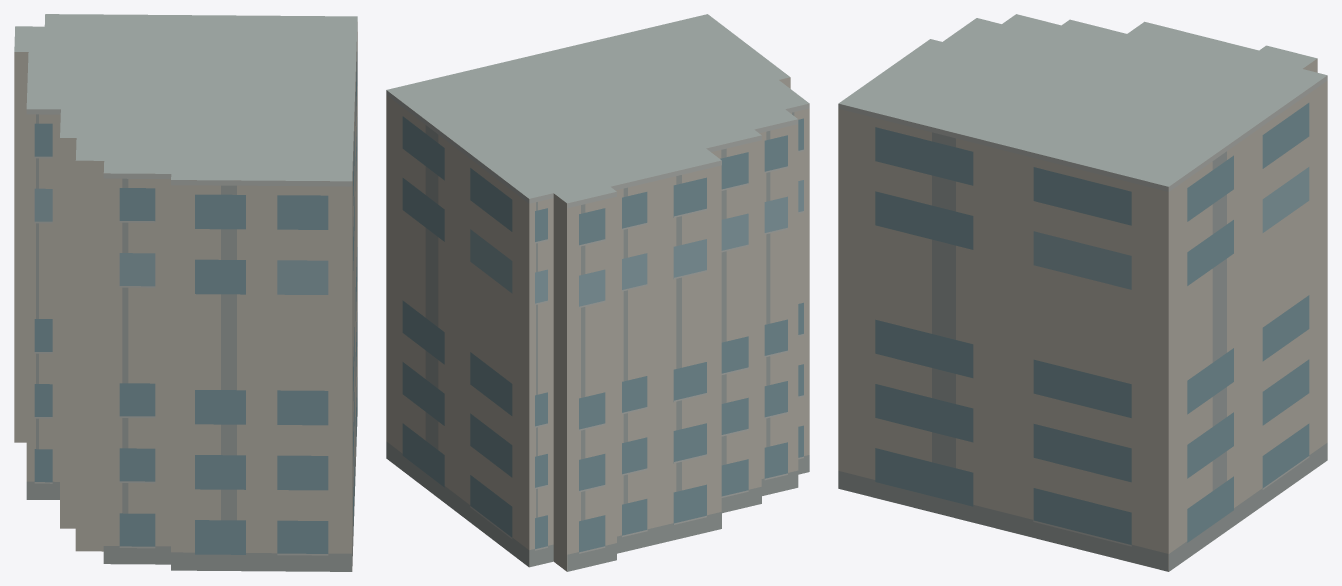
The model's file is survey-upis-32797094.glb.
3 views of the same model, side by side, from view 1: azimuth 30°, elevation 25°; view 2: azimuth 150°, elevation 25°; view 3: azimuth 270°, elevation 25° (orthographic). The views are drawn at different scales.
Parts seen in each view (by area): view 1: survey-upis-32797094.tmp; view 2: survey-upis-32797094.tmp; view 3: survey-upis-32797094.tmp.
Boxes of the visible parts, bbox=[...] form: survey-upis-32797094.tmp: bbox=[14, 14, 357, 571]; survey-upis-32797094.tmp: bbox=[386, 14, 809, 571]; survey-upis-32797094.tmp: bbox=[838, 14, 1327, 571].
Size of the model in its own units: 17.53 by 18.2 by 20.97.
